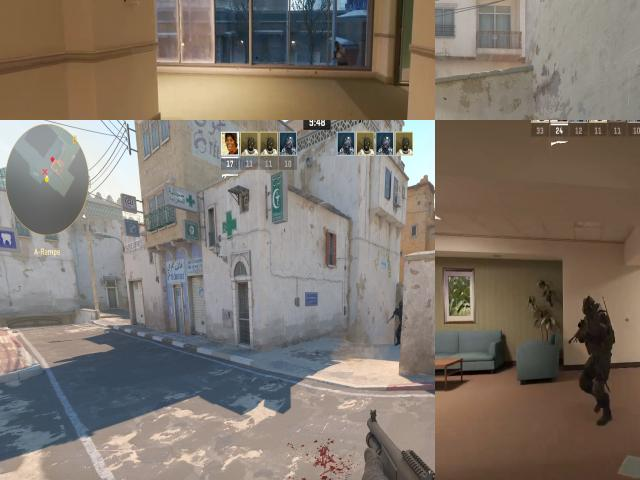CT: (578, 289, 614, 410), (397, 301, 402, 345)
CT-Head: (580, 294, 600, 320), (398, 302, 402, 308)
T: (328, 39, 348, 67)
T-Head: (333, 40, 344, 52)
